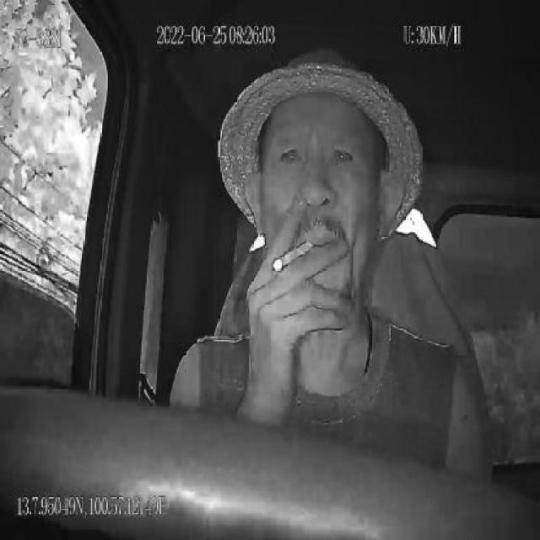smoking: (272, 237, 315, 273)
